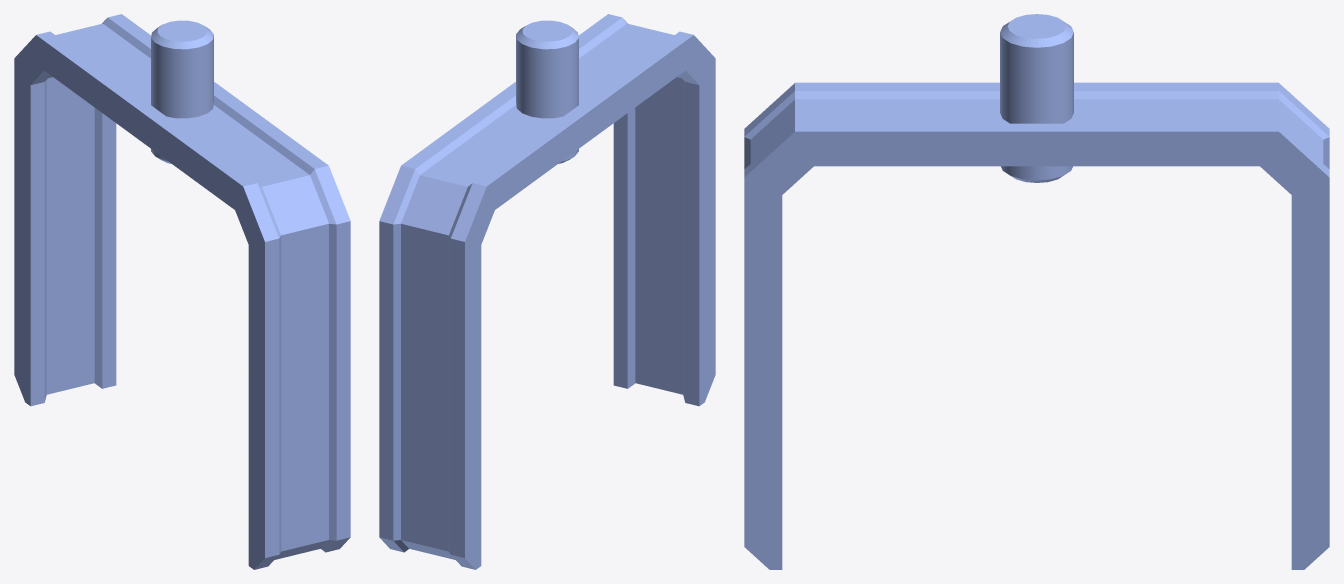
Rendered from SM_Spotlight_Hinge.FBX.
The picture shows the model from 3 angles, left to right: view 1: azimuth 30°, elevation 25°; view 2: azimuth 150°, elevation 25°; view 3: azimuth 270°, elevation 25°; orthographic projection. The views are drawn at different scales.
Visible parts, largest first — view 1: SM_Spotlight_Hinge; view 2: SM_Spotlight_Hinge; view 3: SM_Spotlight_Hinge.
Part boxes in pixels (x1,y1,x2,y2): SM_Spotlight_Hinge: (14, 14, 350, 569); SM_Spotlight_Hinge: (379, 14, 715, 569); SM_Spotlight_Hinge: (744, 14, 1329, 569).
Size of the model in its own units: 9.08 by 46 by 45.
